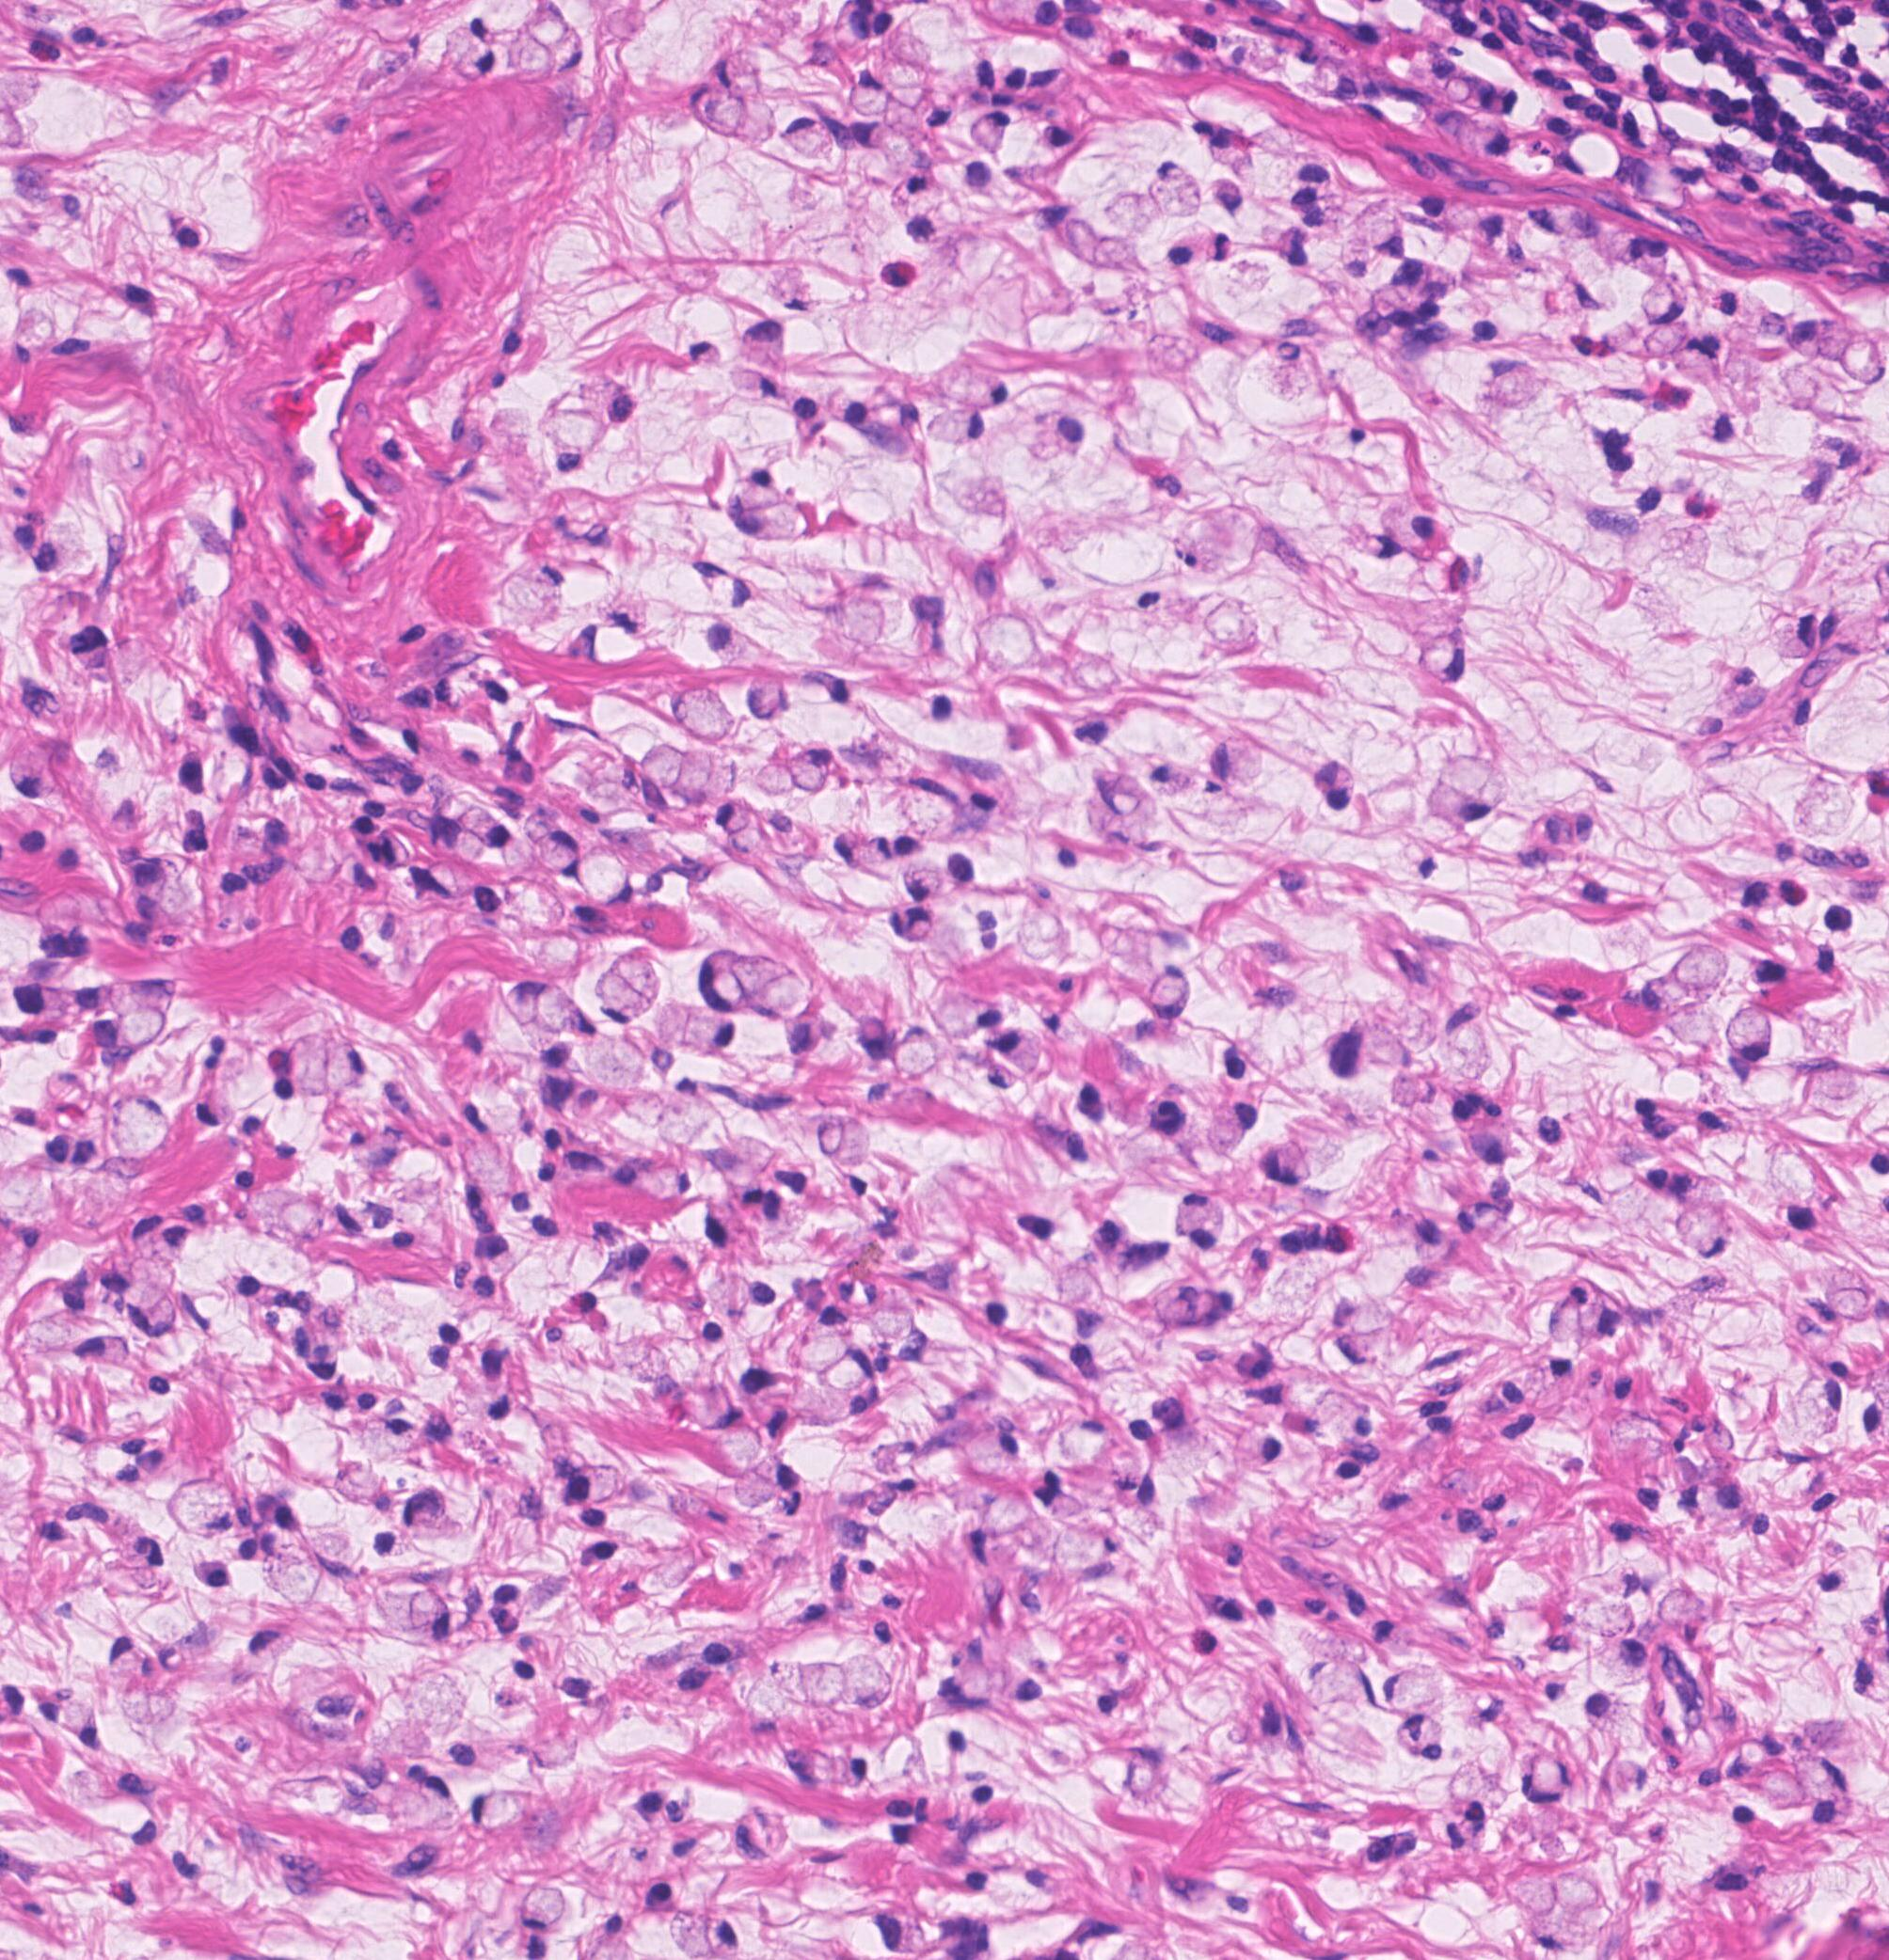ring_cell_cancer: (1429, 751, 1504, 823), (788, 1300, 854, 1376), (597, 948, 660, 1022), (741, 1657, 809, 1724), (655, 999, 737, 1052), (896, 773, 961, 838), (261, 1538, 324, 1605), (1584, 1636, 1656, 1690), (966, 1424, 1038, 1479), (168, 1479, 235, 1536), (107, 1253, 182, 1304), (933, 989, 1014, 1036), (662, 1076, 716, 1146), (739, 961, 802, 1018), (75, 1171, 131, 1234), (394, 1774, 460, 1827), (1674, 1199, 1731, 1258), (502, 560, 564, 616), (702, 945, 755, 1010), (1794, 1372, 1847, 1437), (284, 1029, 331, 1099), (583, 842, 634, 906), (117, 1095, 168, 1160), (914, 1431, 972, 1487), (1138, 581, 1201, 632), (837, 1654, 893, 1710), (544, 418, 607, 467), (467, 1787, 537, 1830), (5, 742, 58, 800), (667, 691, 734, 737), (1698, 1481, 1752, 1535), (1793, 1753, 1849, 1806), (1539, 1906, 1598, 1955), (1381, 1666, 1443, 1713), (700, 623, 762, 670), (1311, 1657, 1367, 1708), (1154, 157, 1203, 215), (112, 978, 182, 1018), (534, 987, 593, 1034), (690, 86, 746, 135), (1724, 1003, 1772, 1060), (359, 1414, 418, 1460), (735, 504, 807, 541), (905, 205, 965, 249), (1035, 409, 1085, 460), (1173, 1188, 1225, 1237), (891, 170, 940, 222), (128, 1279, 173, 1335), (1583, 1559, 1646, 1600), (779, 117, 837, 161), (1271, 150, 1329, 194), (445, 28, 494, 79), (720, 49, 770, 98), (734, 1458, 786, 1505), (791, 1663, 846, 1708), (1173, 219, 1217, 275), (581, 375, 628, 425), (1374, 502, 1434, 542), (1211, 739, 1266, 782), (518, 1883, 567, 1930), (1064, 1416, 1112, 1465), (1640, 276, 1689, 324), (1234, 1418, 1280, 1468), (1576, 1286, 1621, 1337), (723, 479, 788, 515), (410, 1587, 455, 1636), (137, 1221, 194, 1260), (634, 744, 685, 787), (763, 1192, 807, 1242), (567, 1465, 621, 1505), (951, 367, 1007, 406), (931, 406, 987, 444), (1425, 630, 1467, 681), (849, 70, 893, 117), (791, 744, 833, 793), (460, 807, 509, 849), (331, 1032, 364, 1092), (996, 1025, 1045, 1066), (1495, 1367, 1544, 1407), (970, 107, 1010, 154), (495, 985, 537, 1027), (1213, 129, 1253, 168), (903, 859, 940, 901), (532, 829, 578, 863), (550, 30, 583, 73), (1155, 765, 1197, 796), (716, 798, 751, 833), (1551, 1298, 1581, 1339)
